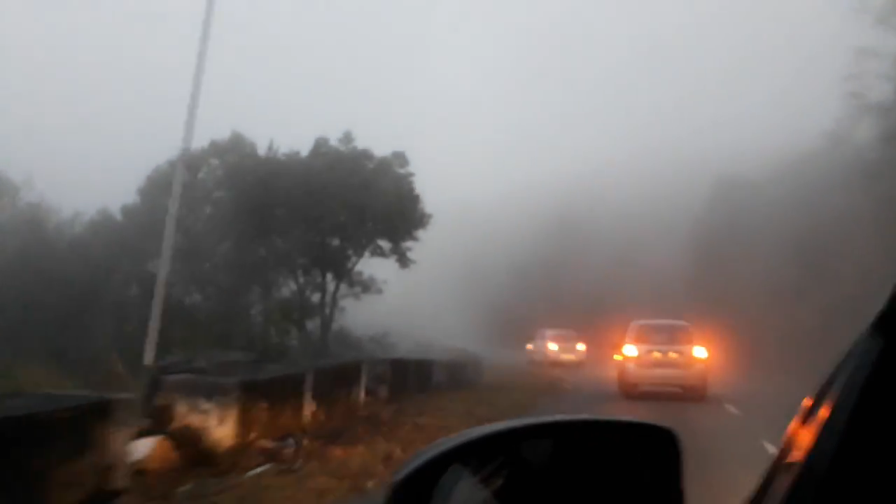car: (612, 318, 710, 402), (534, 326, 588, 368), (523, 340, 546, 350)
